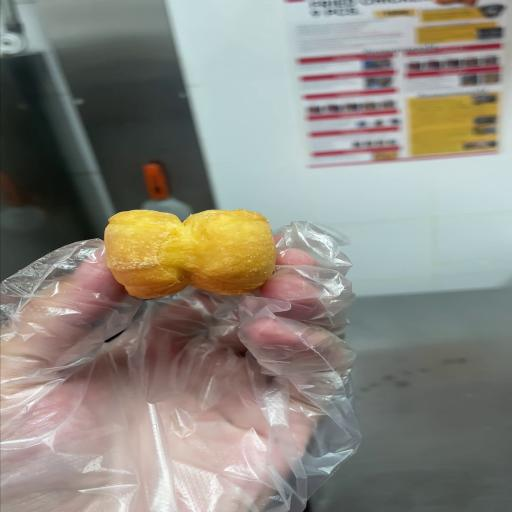brand_golden_good: (104, 210, 275, 299)
